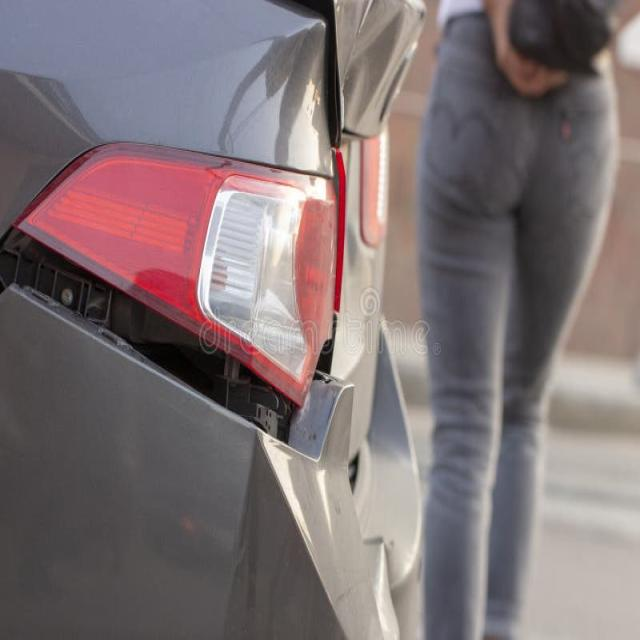dent: (334, 0, 405, 133)
misalignment: (0, 224, 337, 461), (295, 0, 342, 148)
